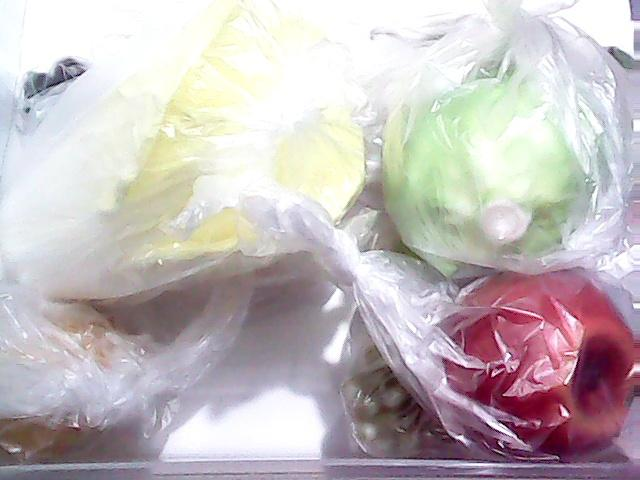apple: (444, 262, 628, 450)
cabbage: (382, 57, 602, 281)
grape: (324, 338, 476, 472), (13, 53, 81, 107)
napa cabbage: (4, 15, 370, 300)
potato: (1, 292, 148, 460)
